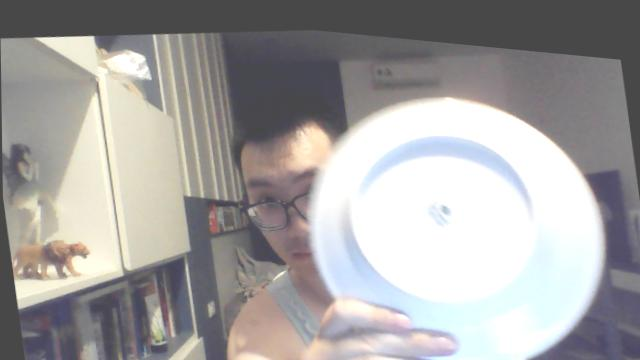Plate: (310, 97, 606, 360)
